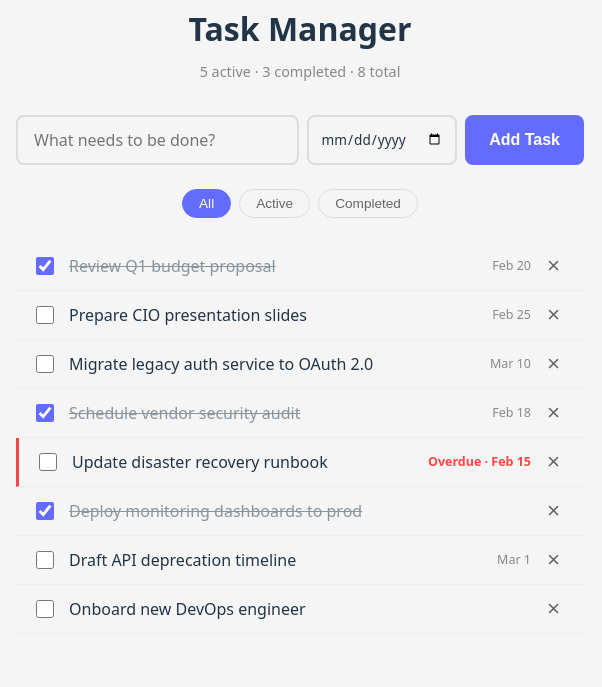
Test: Task Manager — End to End › adds a new task
The image size is (602, 687).
In the field with placeholder "What needs to be done?": (157, 140) left=16, top=115, right=299, bottom=165, type "New test task"
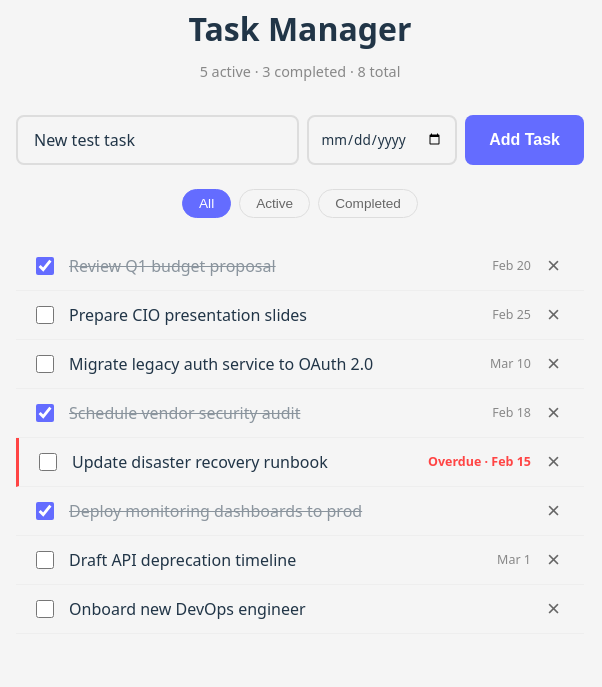
Click the button "Add Task": (525, 140) left=465, top=115, right=584, bottom=165
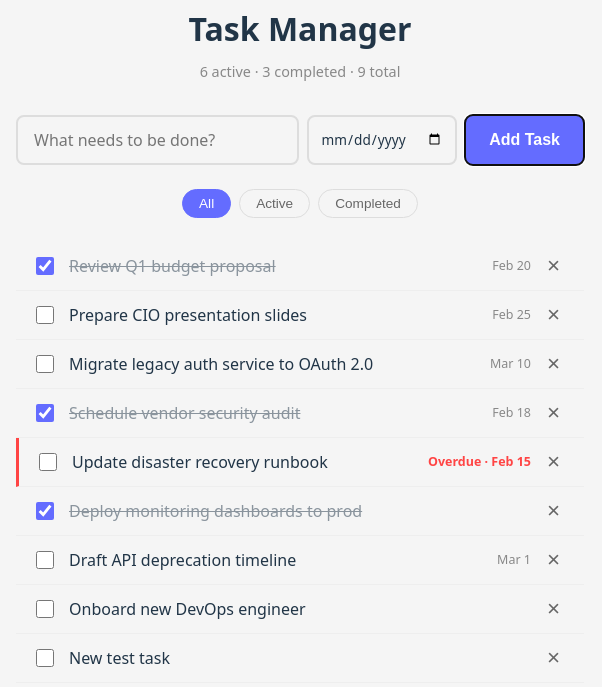
Now the text "New test task" is shown, box left=69, top=646, right=170, bottom=670
Now the text "6 active · 3 completed · 9 total" is shown, box left=200, top=62, right=400, bottom=81
